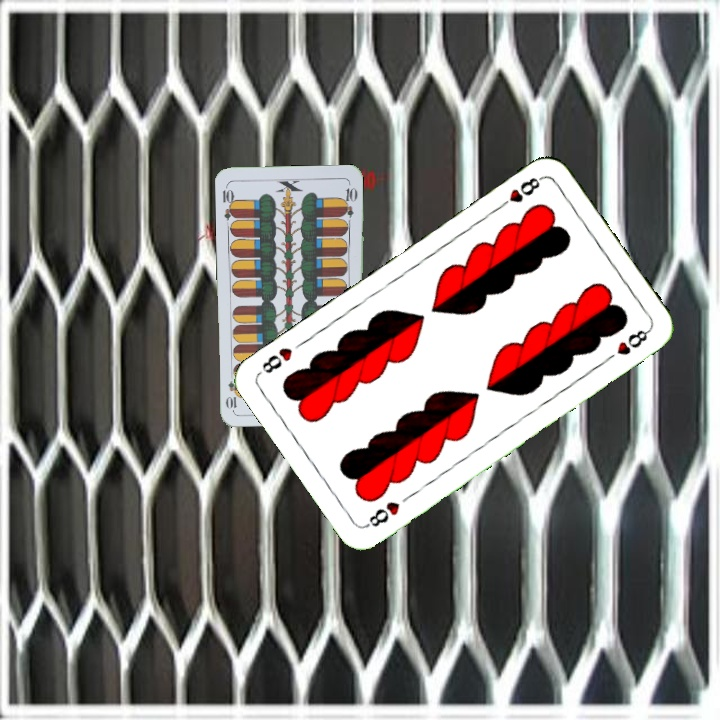E10: (219, 182, 238, 222)
H8: (494, 172, 546, 212), (361, 497, 403, 530)
